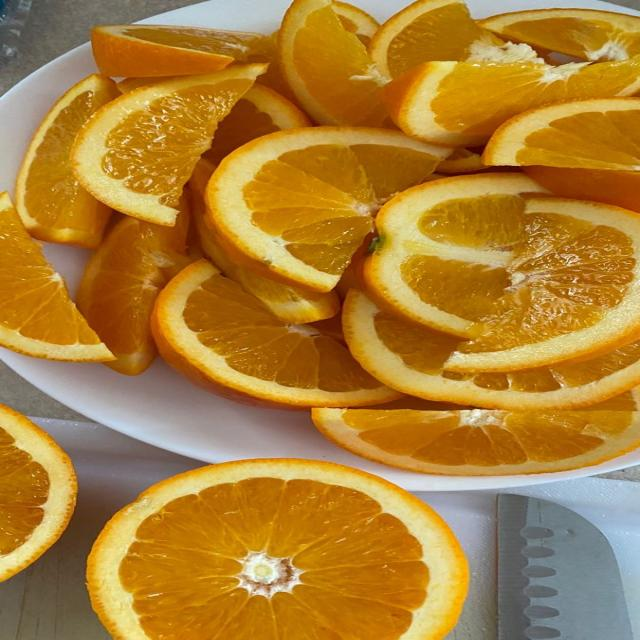orange: (88, 460, 468, 639), (365, 174, 639, 371), (207, 127, 450, 291), (152, 260, 401, 409), (343, 291, 639, 411), (72, 64, 265, 225), (364, 174, 545, 337), (189, 160, 339, 323), (381, 57, 639, 146), (312, 409, 639, 475), (76, 195, 191, 375), (0, 192, 113, 361), (16, 75, 118, 248), (278, 0, 389, 126), (0, 405, 76, 581), (483, 98, 639, 171), (369, 0, 506, 77), (202, 84, 311, 168), (92, 25, 265, 77), (202, 84, 311, 165), (479, 8, 639, 61), (524, 166, 639, 212), (332, 0, 379, 45), (436, 148, 486, 174)
